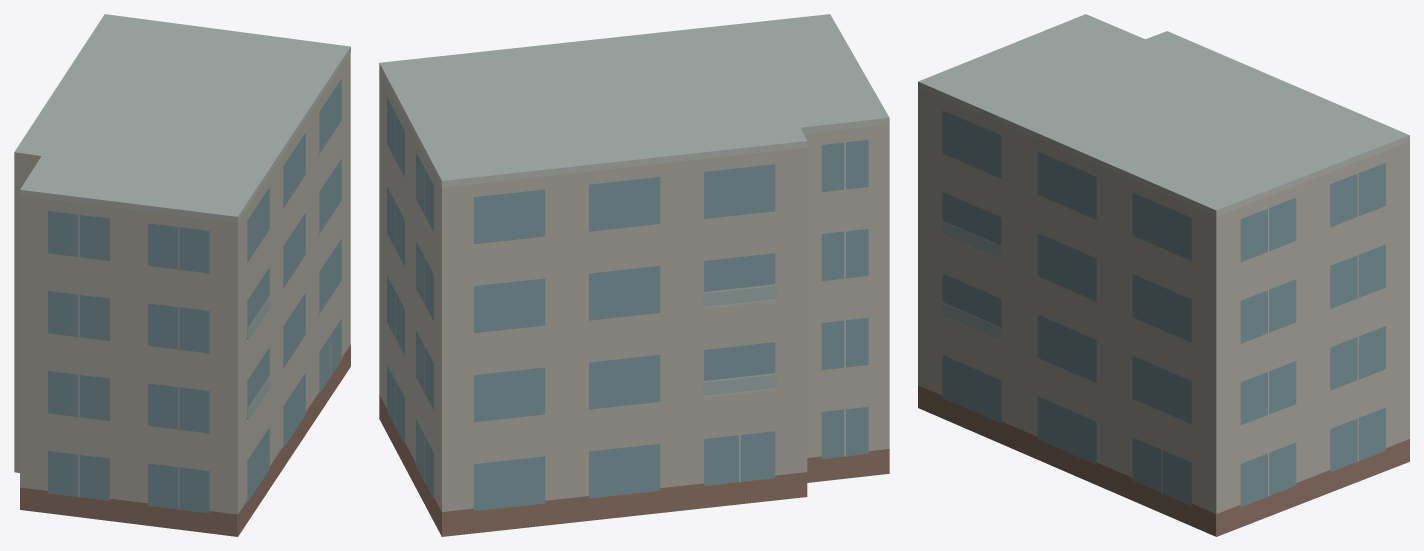
Rendered from survey-upis-32751848.glb.
3 renders of one model, left to right at view 1: azimuth 30°, elevation 25°; view 2: azimuth 150°, elevation 25°; view 3: azimuth 270°, elevation 25°, orthographic. The views are drawn at different scales.
Visible parts, largest first — view 1: survey-upis-32751848.tmp; view 2: survey-upis-32751848.tmp; view 3: survey-upis-32751848.tmp.
Part boxes in pixels (box(x1,y1,x2,y2)): survey-upis-32751848.tmp: box(14, 14, 350, 536); survey-upis-32751848.tmp: box(379, 14, 889, 536); survey-upis-32751848.tmp: box(918, 14, 1409, 536).
Size of the model in its own units: 17.05 by 13.2 by 18.03.
